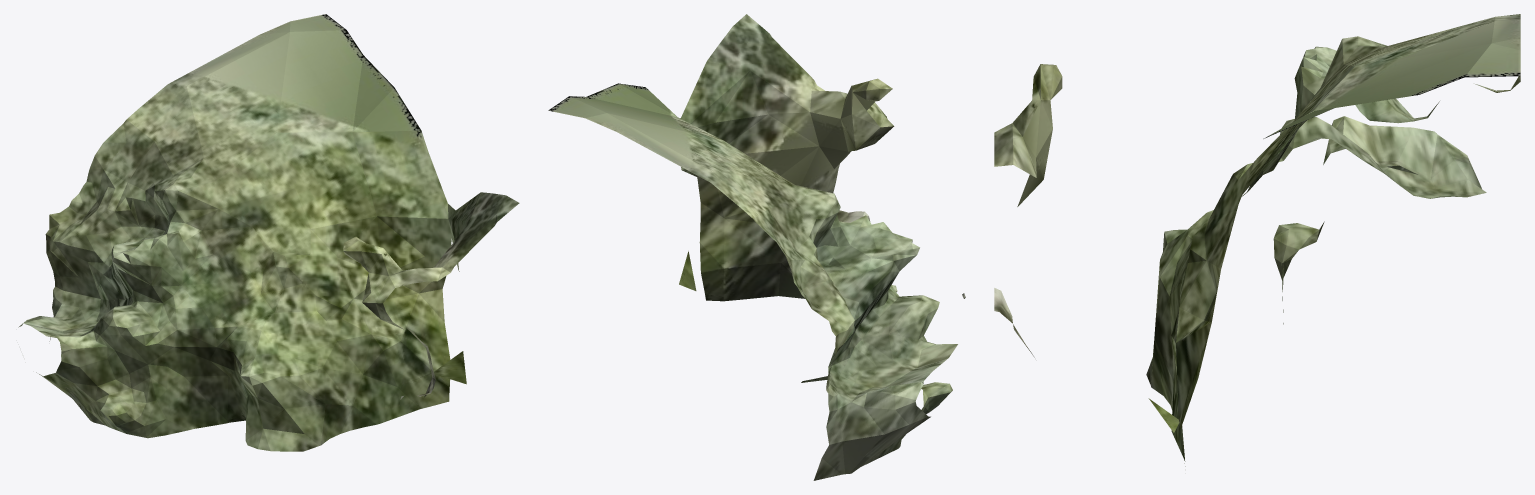
3 views of the same model, side by side, from view 1: azimuth 30°, elevation 25°; view 2: azimuth 150°, elevation 25°; view 3: azimuth 270°, elevation 25° (orthographic). The views are drawn at different scales.
Size of the model in its own units: 5.9 by 5.03 by 5.9.
4 materials, 4 textured.
